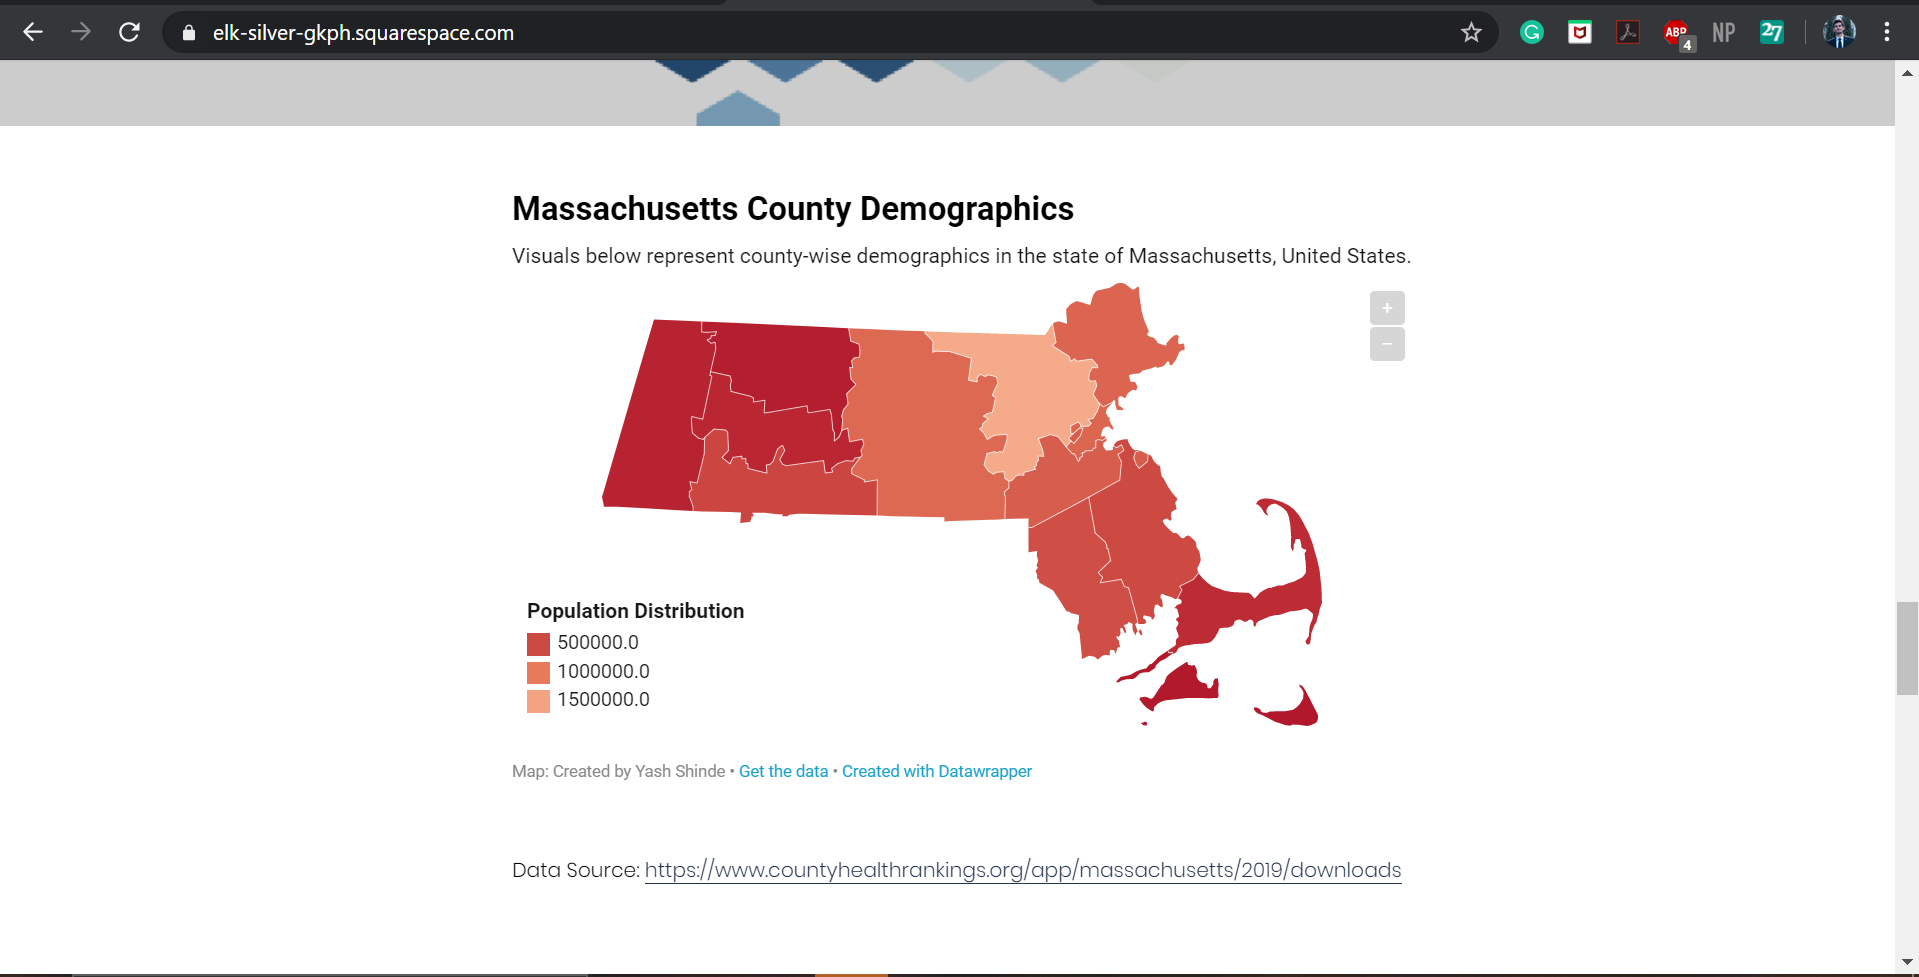

Layout of this report page (visuals, bound fields, positions):
{"tool":"tableau","page":{"name":"Details and Citations","canvas":[1000,800],"ordinal":0},"visuals":[{"type":"text","box":[8,8,984,784]}]}

Visuals, with their boxes on the page's 1000x800 design canvas (x1, y1, x2, y2). These are canvas units, not pixel positions in the 1919x977 screenshot, which may show the page scaled, cropped or inside an application window:
text: locate(8, 8, 992, 792)
